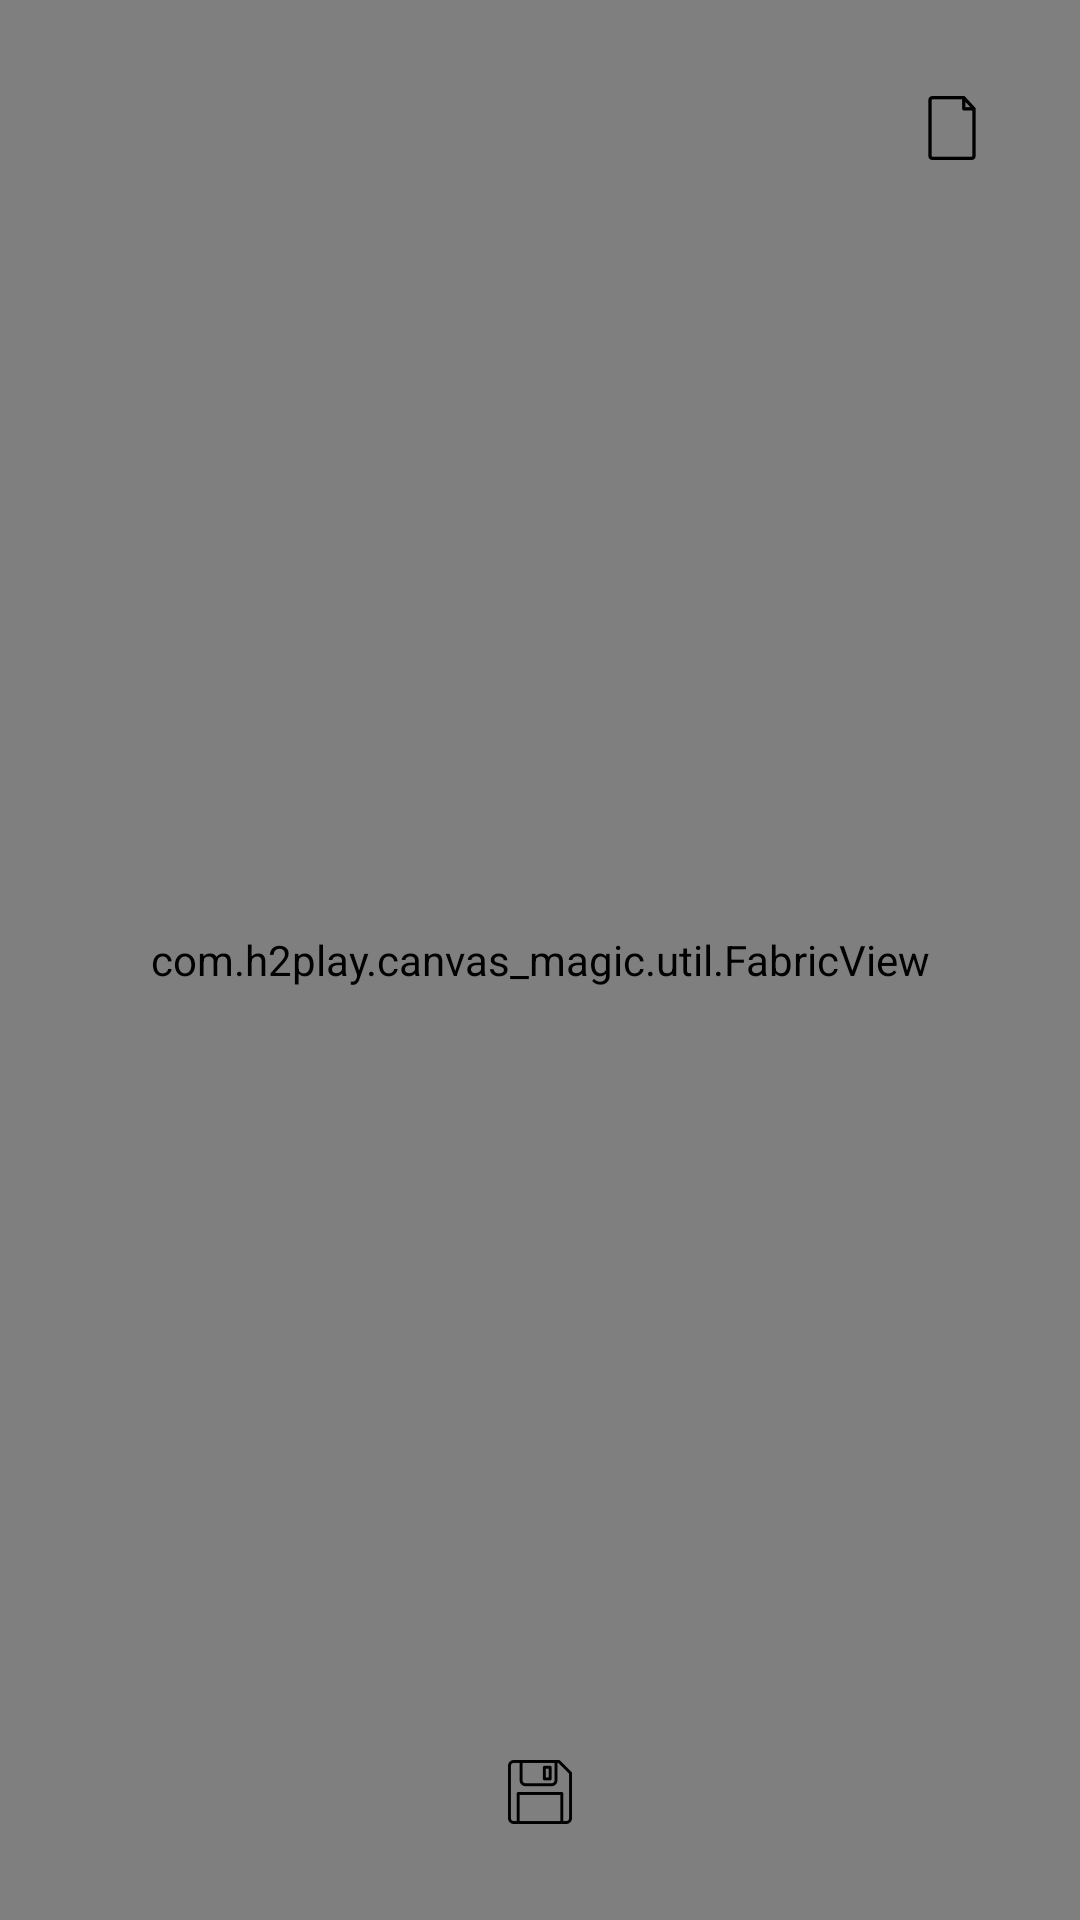

Named icons in this screenshot (1080×1920) and their centers, point (x, y):
save: point (540, 1792)
